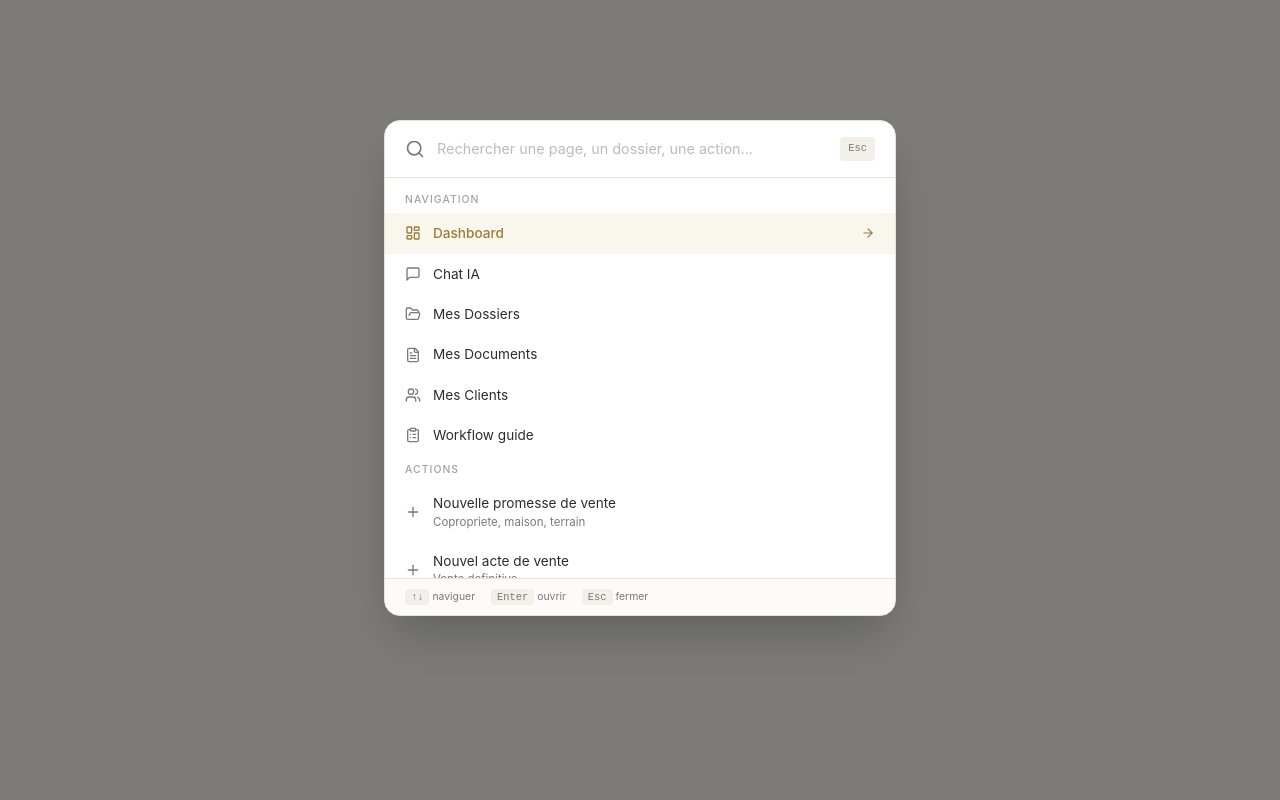
CommandPalette › filters items by query
Type "Martin" into the field with placeholder "Rechercher une page, un dossier, une action..." at x=633, y=149, box [437,138,828,160]
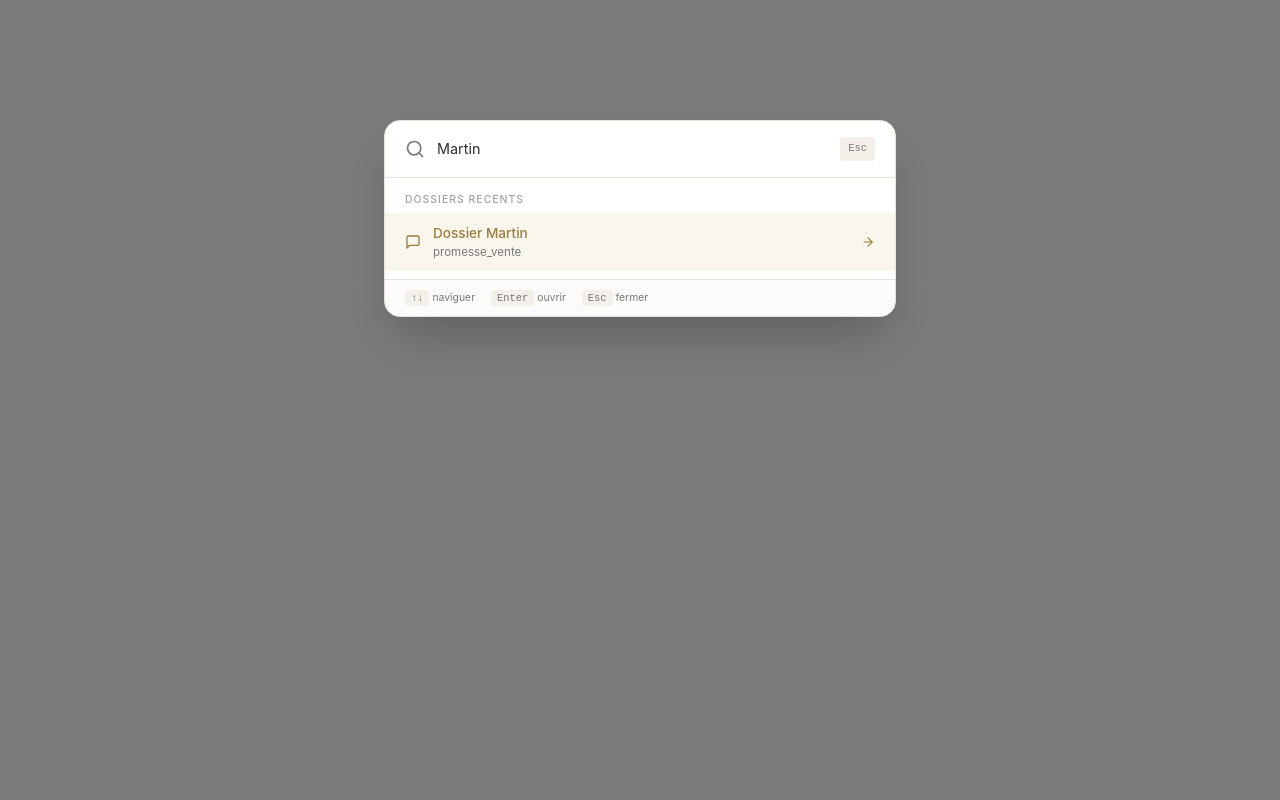
Now the text "Dossier Martin" is shown, box [433,225,528,241]
Now the button "Dashboard" is gone
